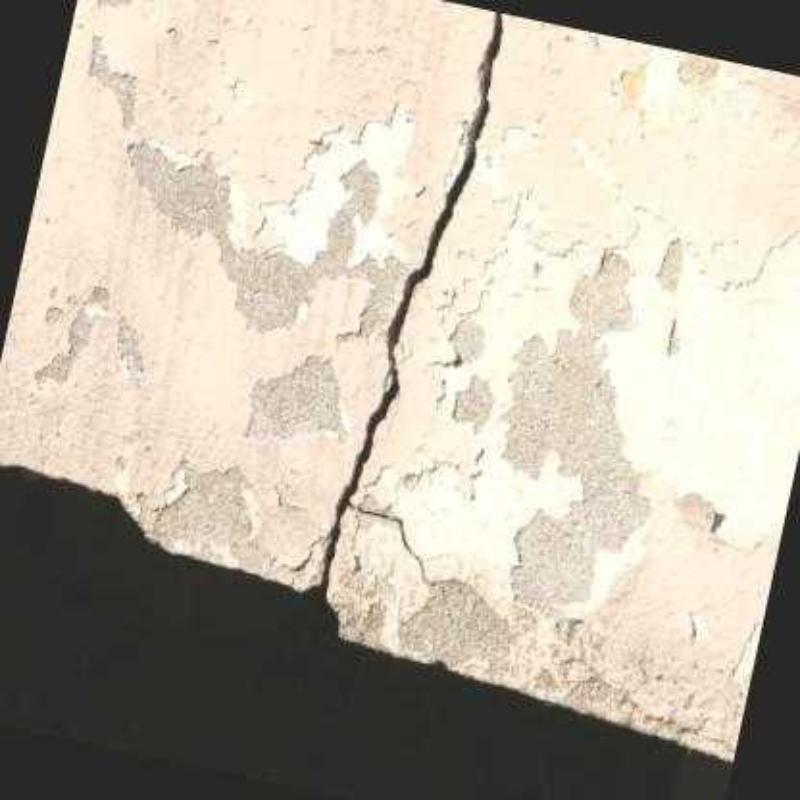pothole: (316, 11, 504, 588), (350, 504, 431, 587)
